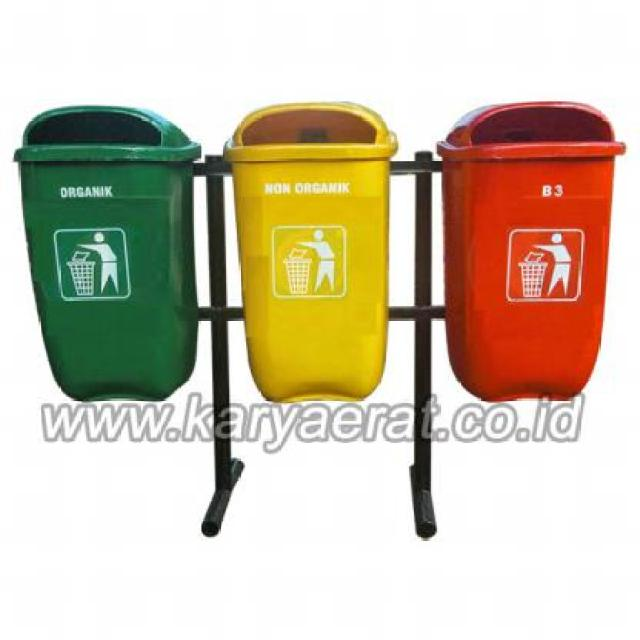garbage container: (0, 91, 212, 407), (437, 89, 631, 409), (219, 88, 406, 410)
